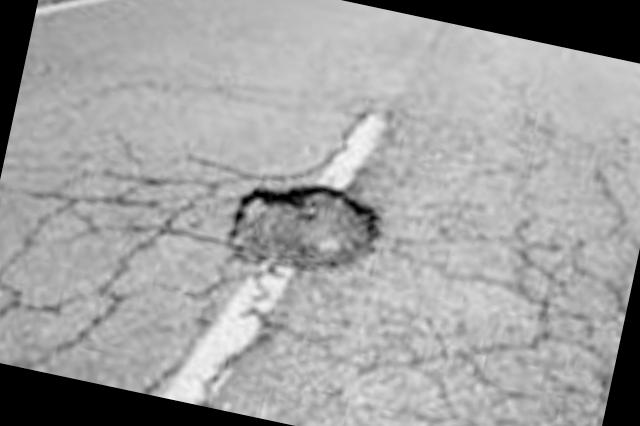Pothole: (219, 160, 396, 306)
